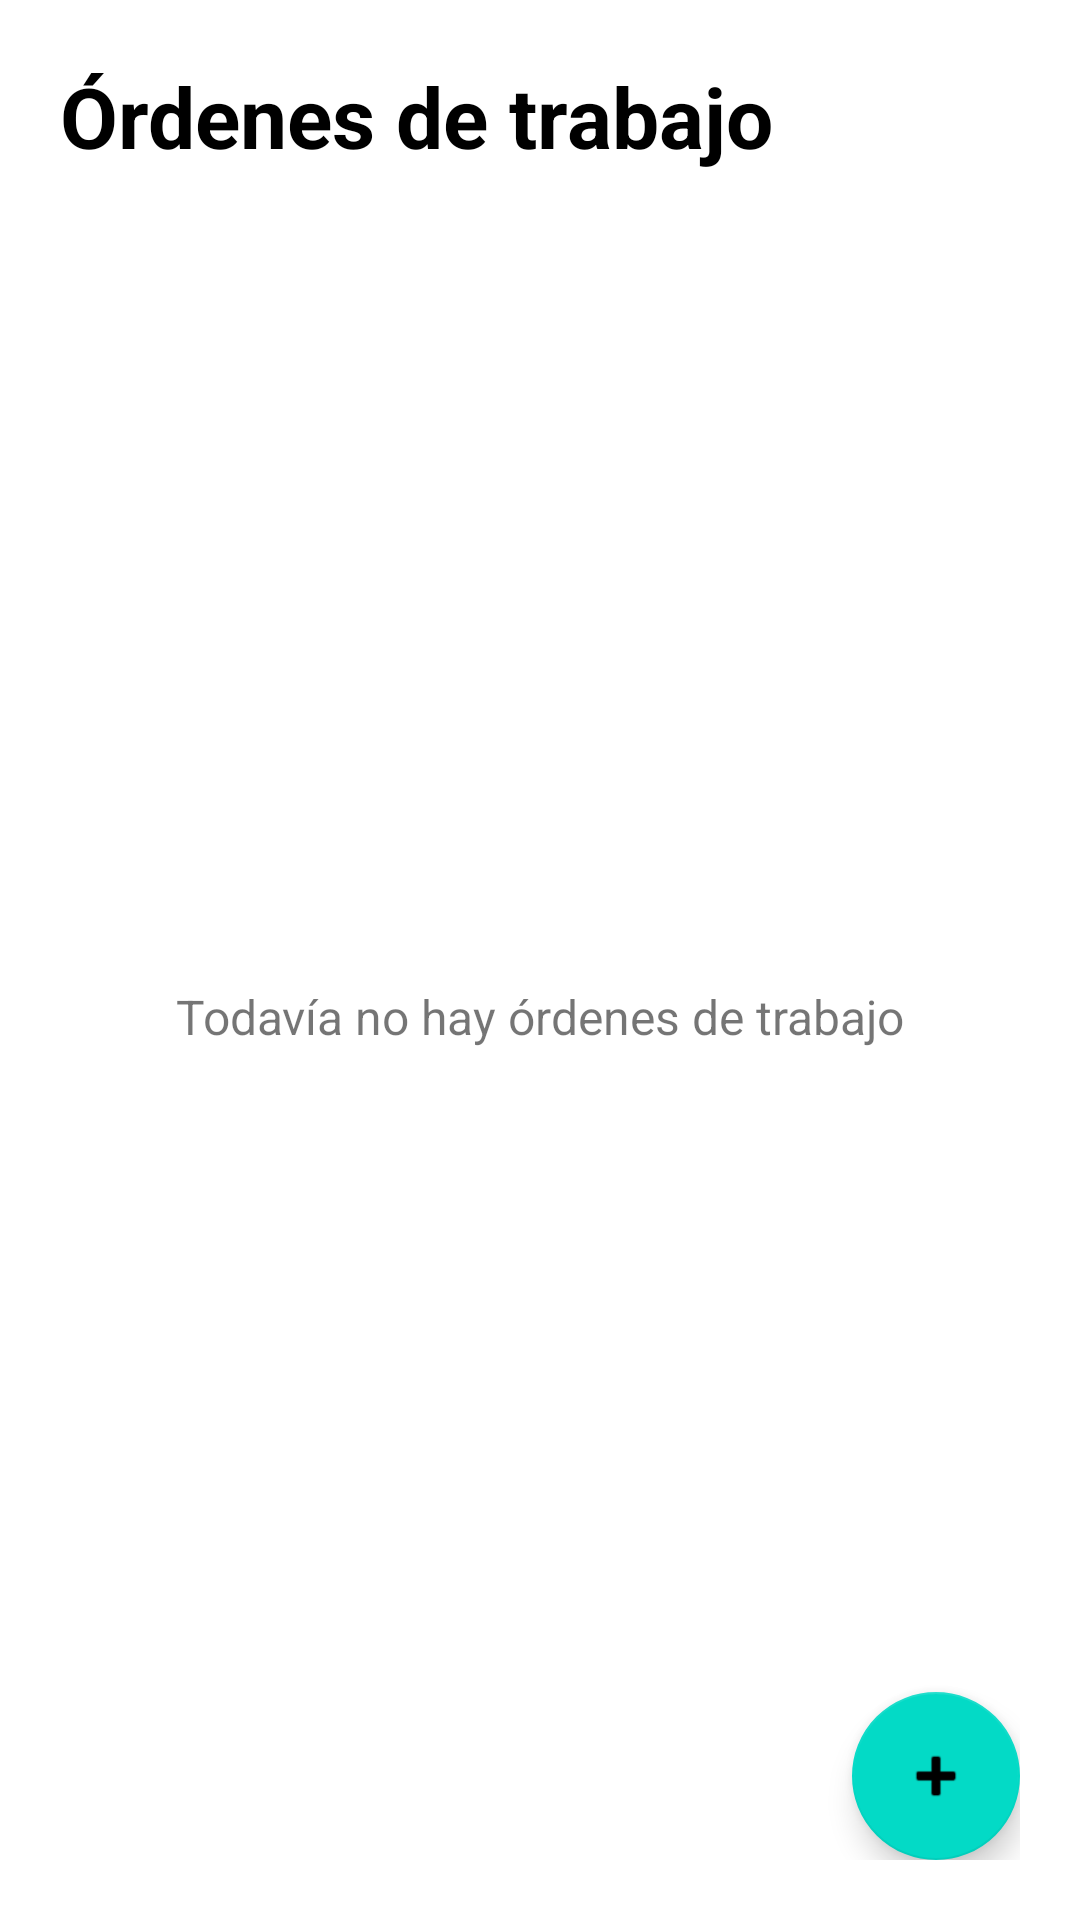

Where to tap for icons on this 1080 × 1920 app screen, as [x,y]:
Nueva orden de trabajo: [936,1776]
